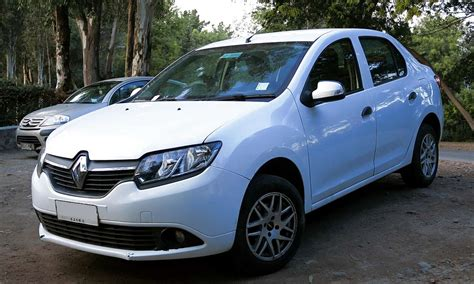car: (28, 20, 448, 275)
